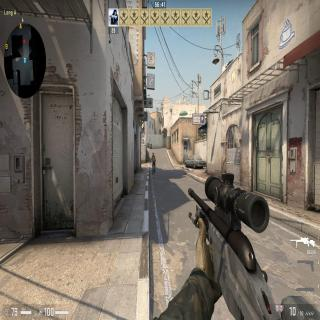T-Body: (151, 152, 157, 175)
T-Head: (152, 152, 154, 156)
